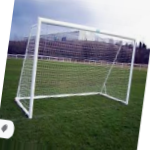goals: (15, 15, 137, 115)
